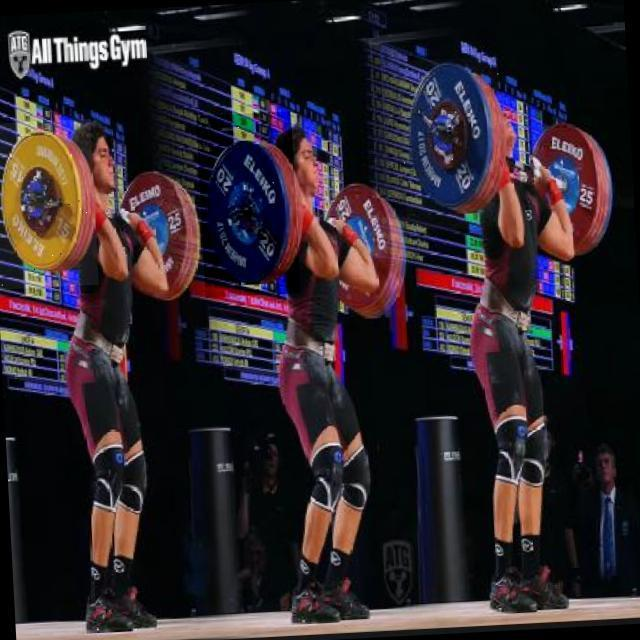barbell: (198, 112, 302, 299), (400, 58, 508, 233), (1, 119, 99, 290)
